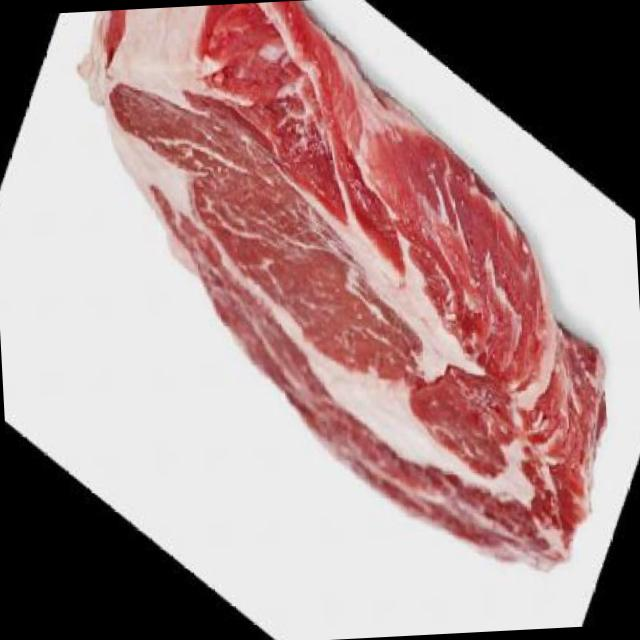beef: (81, 0, 640, 594)
